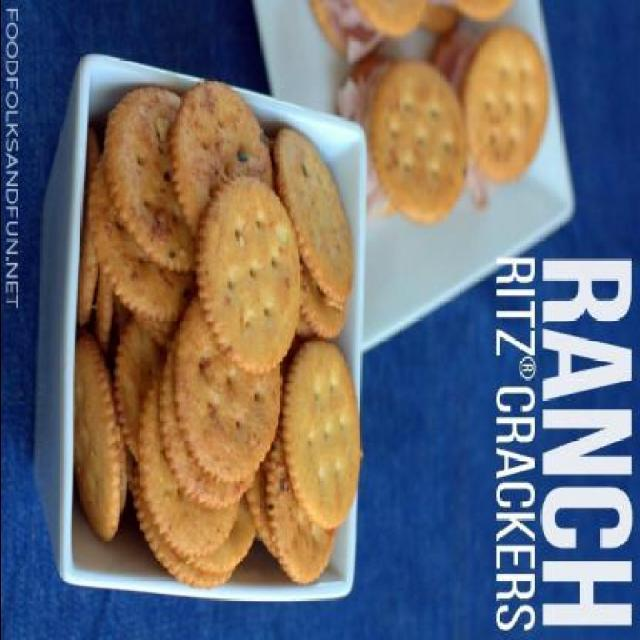Ritz cracker packaged: (67, 96, 355, 567)
